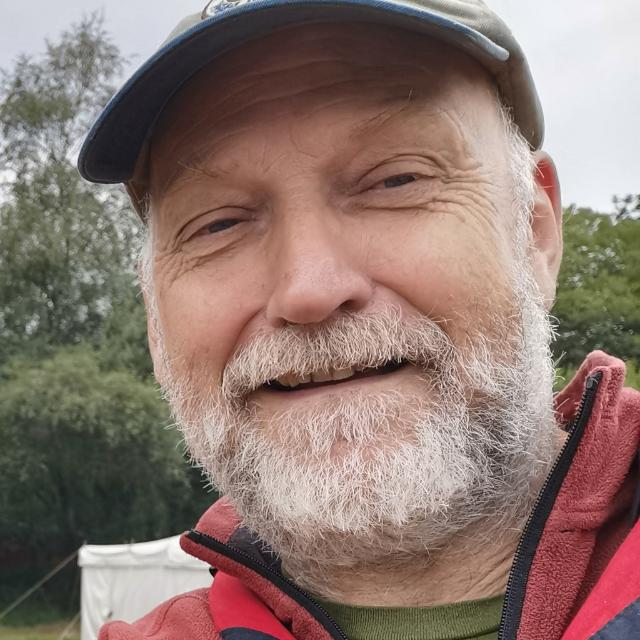crows_feet: (440, 163, 480, 210), (156, 240, 192, 278)
forehead: (248, 54, 344, 76), (242, 88, 304, 116)
frown_line: (286, 128, 314, 164)
gummy_smile: (213, 310, 263, 362), (375, 276, 431, 312)
